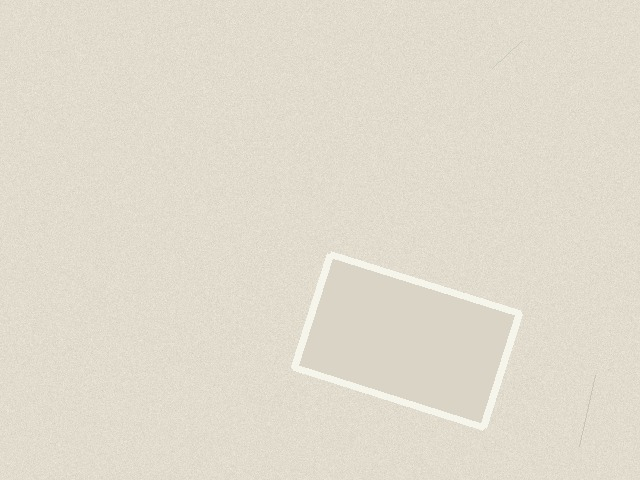parking_area: (294, 254, 519, 427)
